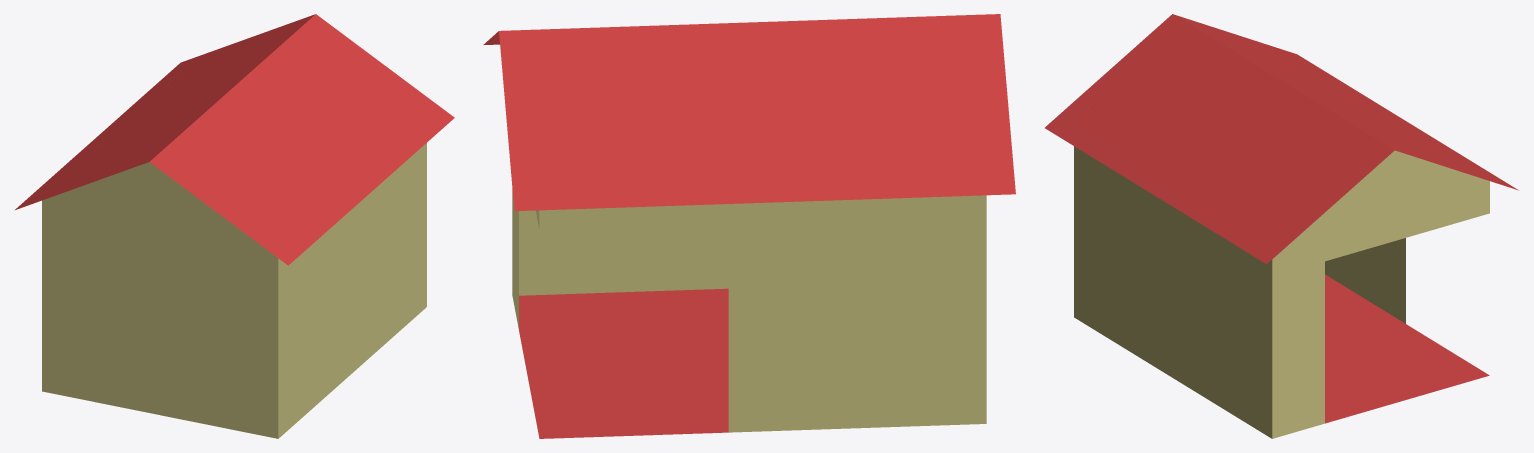
3 renders of one model, left to right at view 1: azimuth 30°, elevation 25°; view 2: azimuth 150°, elevation 25°; view 3: azimuth 270°, elevation 25°, orthographic. The views are drawn at different scales.
Size of the model in its own units: 17.5 by 16.74 by 10.25.
